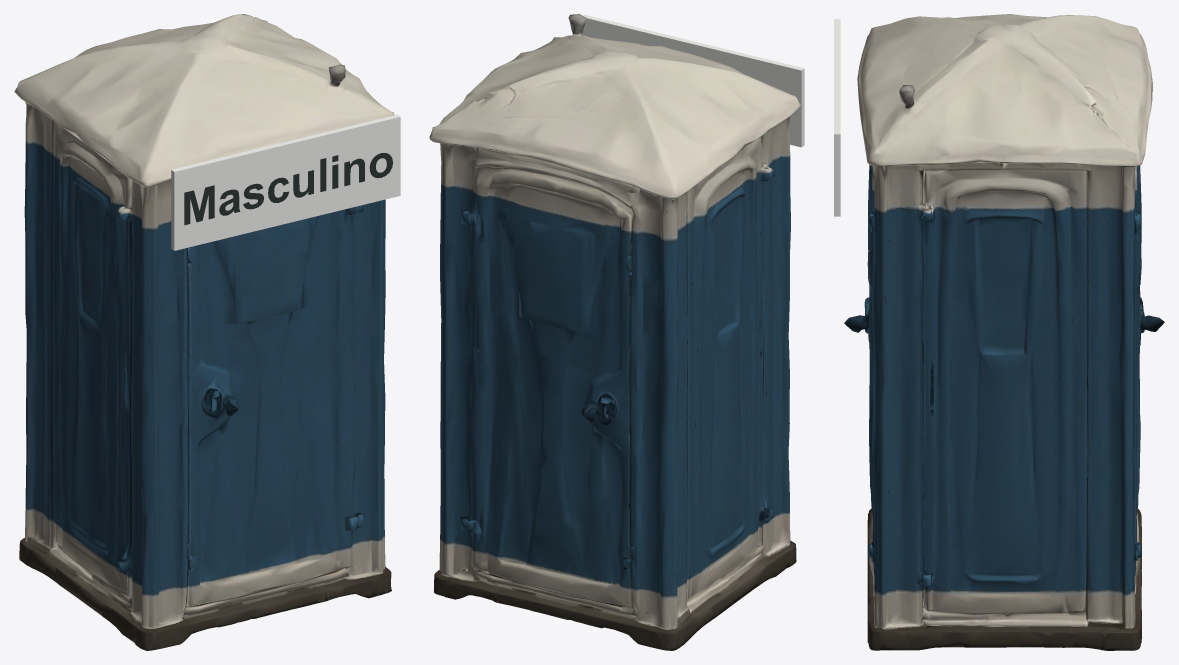
Rendered from toilet-masculino.glb.
The picture shows the model from 3 angles, left to right: view 1: azimuth 30°, elevation 25°; view 2: azimuth 150°, elevation 25°; view 3: azimuth 270°, elevation 25°; orthographic projection. The views are drawn at different scales.
Parts seen in each view (by area): view 1: tripo_node_60a4deb6-5a27-47ab-872c-550047519718, Readable_Gender_Plate, Gender_Label; view 2: tripo_node_60a4deb6-5a27-47ab-872c-550047519718, Readable_Gender_Plate; view 3: tripo_node_60a4deb6-5a27-47ab-872c-550047519718, Readable_Gender_Plate.
Boxes of the visible parts, box(x1,y1,x2,y2) form: tripo_node_60a4deb6-5a27-47ab-872c-550047519718: box(14, 14, 394, 650); Readable_Gender_Plate: box(171, 114, 400, 250); Gender_Label: box(184, 153, 392, 225); tripo_node_60a4deb6-5a27-47ab-872c-550047519718: box(429, 14, 801, 650); Readable_Gender_Plate: box(583, 14, 804, 147); tripo_node_60a4deb6-5a27-47ab-872c-550047519718: box(844, 14, 1164, 650); Readable_Gender_Plate: box(834, 19, 840, 216).
Size of the model in its own units: 1.2 by 2.3 by 1.24.
3 materials, 1 textured.
